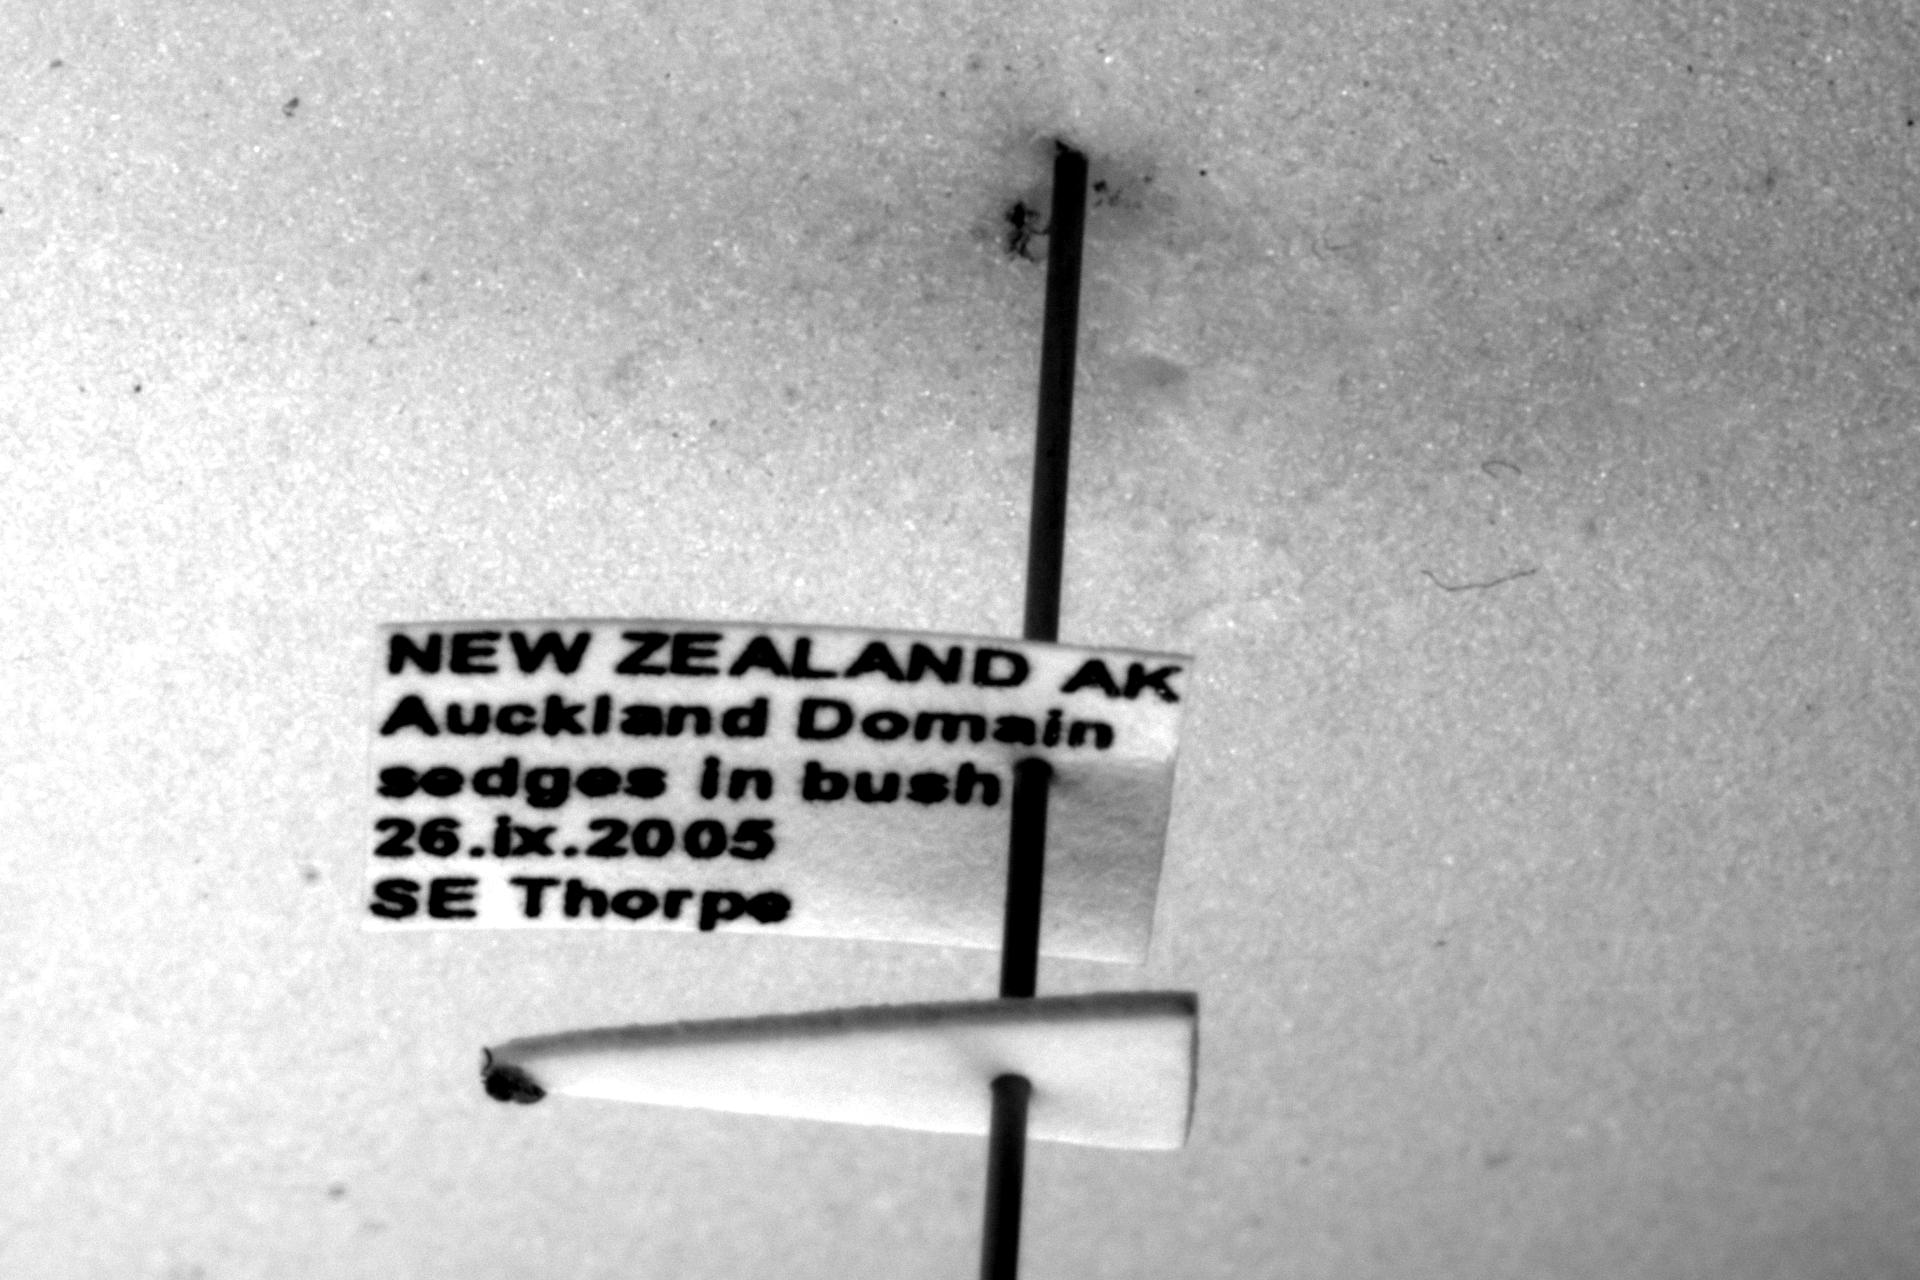typed_label: (367, 623, 1193, 964)
